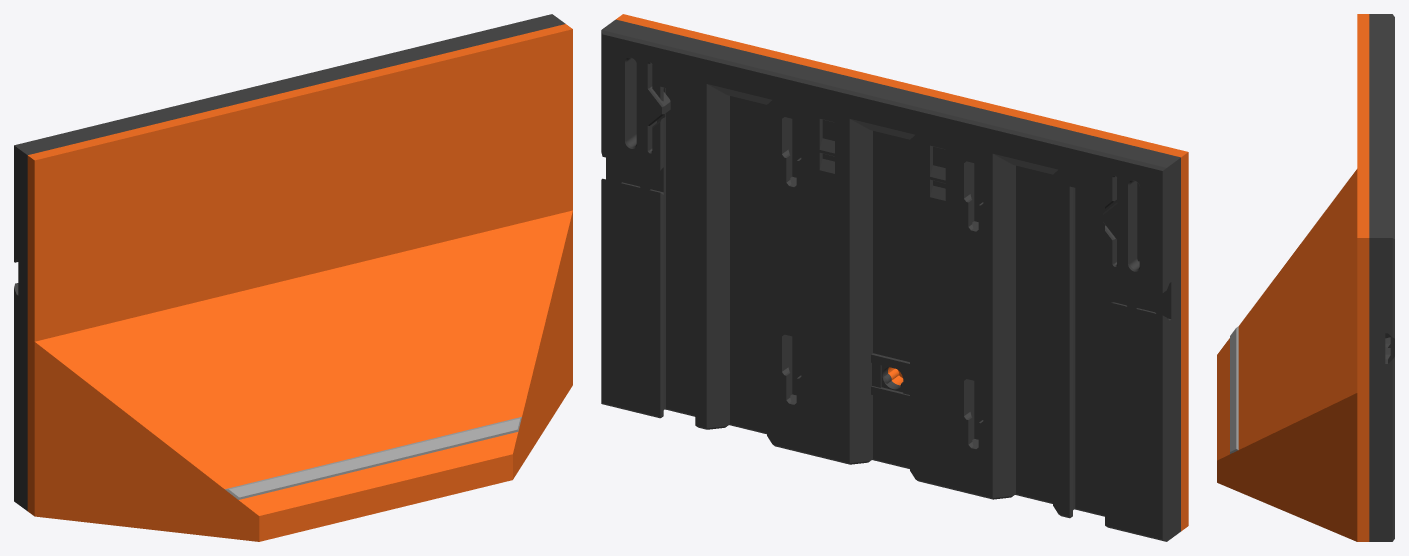
The model's file is Faceplate_ClassicDecor_1W-1H.lib.glb.
3 views of the same model, side by side, from view 1: azimuth 30°, elevation 25°; view 2: azimuth 150°, elevation 25°; view 3: azimuth 270°, elevation 25° (orthographic). The views are drawn at different scales.
Parts seen in each view (by area): view 1: Faceplate_ClassicDecor_1W-1H; view 2: Faceplate_ClassicDecor_1W-1H; view 3: Faceplate_ClassicDecor_1W-1H.
Part boxes in pixels (left/top/right/bottom): Faceplate_ClassicDecor_1W-1H: left=14, top=14, right=572, bottom=541; Faceplate_ClassicDecor_1W-1H: left=601, top=14, right=1188, bottom=541; Faceplate_ClassicDecor_1W-1H: left=1217, top=14, right=1394, bottom=541.
Size of the model in its own units: 87 by 55 by 29.2.
